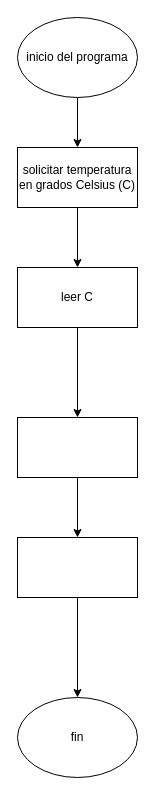
Image size: 155x795. Some labels were removed from this diagram. Each missing label, with the centre of its shape:
calcular Fahrenheit F = (C* 9/5) +32: the point at 77,447
mostrar F: the point at 77,567
